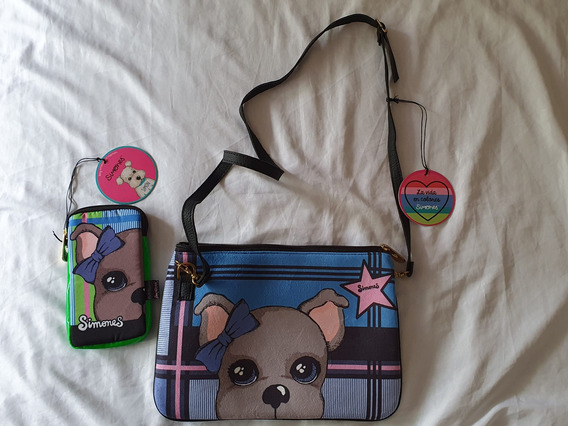cartera: (154, 230, 406, 426)
